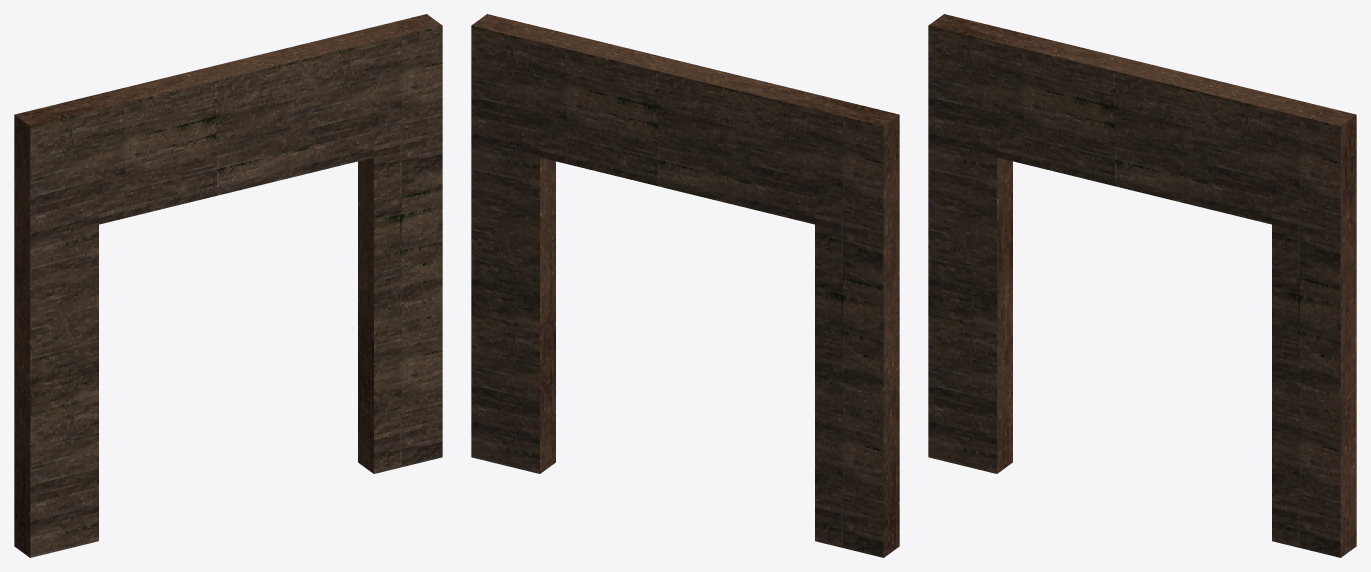
File: door_double_frame.glb
The picture shows the model from 3 angles, left to right: view 1: azimuth 30°, elevation 25°; view 2: azimuth 150°, elevation 25°; view 3: azimuth 330°, elevation 25°; orthographic projection.
Parts seen in each view (by area): view 1: door_double_frame2; view 2: door_double_frame2; view 3: door_double_frame2.
Boxes of the visible parts, x1,y1,x2,y2 form: door_double_frame2: (14,14,442,557); door_double_frame2: (471,14,899,557); door_double_frame2: (928,14,1356,557).
Size of the model in its own units: 3 by 3 by 0.2.
Materials: 1 (1 with a texture image).
